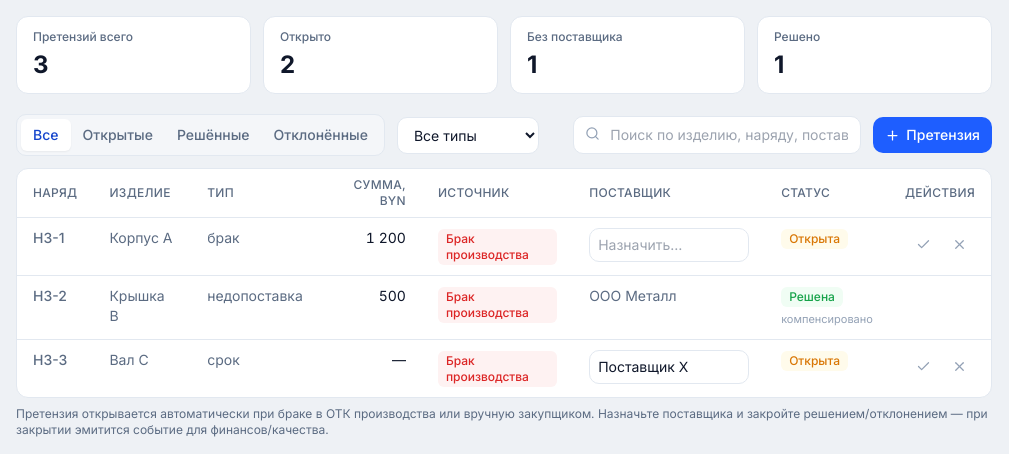
Test: ClaimsPanel › поиск фильтрует строки по изделию
This screenshot has width=1009, height=454.
Type "Вал" into the field with placeholder "Поиск по изделию, наряду, поставщику" at (717, 135), box 573,116 -> 861,154
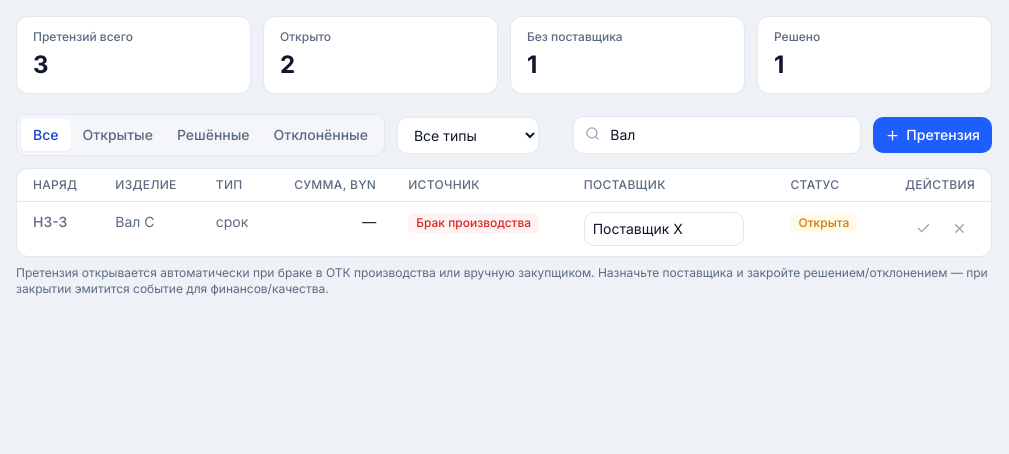
Expected: the text "Вал C" is shown, 99,202 -> 200,256
Expected: the text "Корпус A" is gone
Expected: the text "Крышка B" is gone
